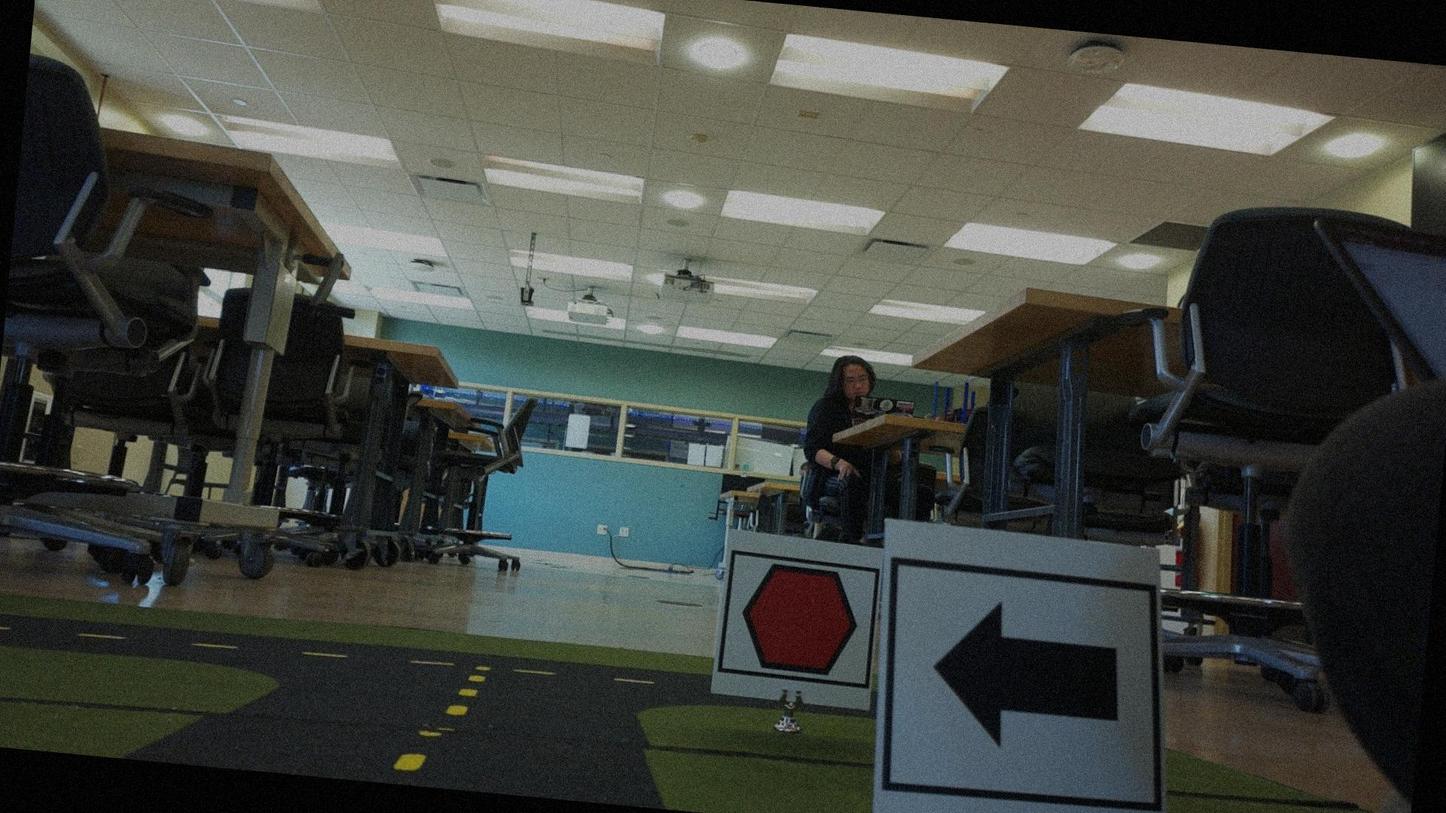stop: (718, 553, 877, 684)
turnright: (879, 562, 1158, 808)
yellowline: (391, 666, 486, 781)
